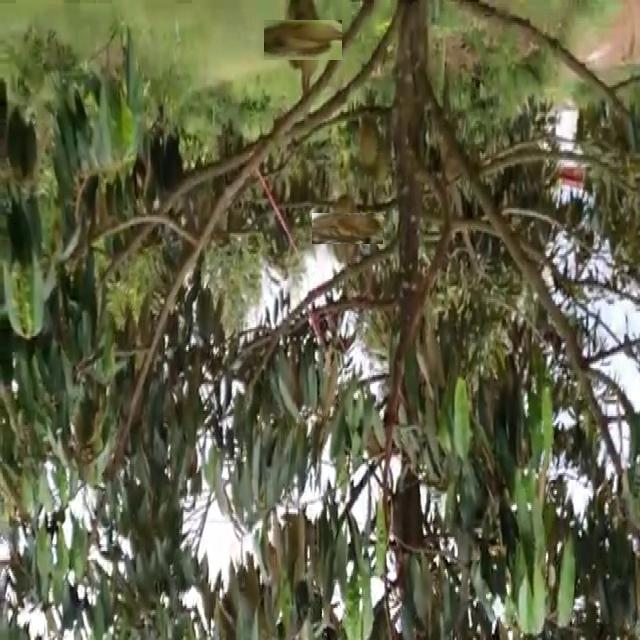durian: (273, 11, 332, 70), (322, 203, 373, 254)
